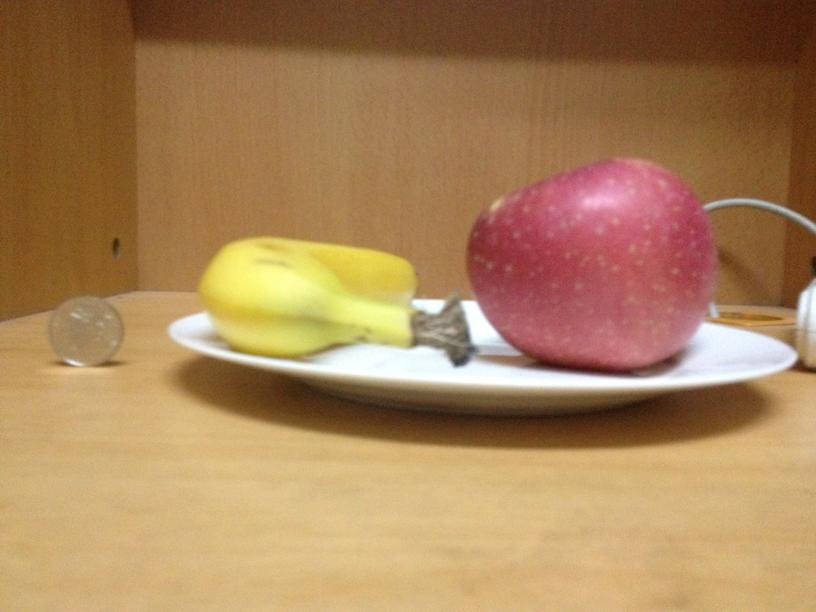apple: (460, 152, 716, 369)
banana: (205, 231, 416, 354)
coin: (45, 296, 123, 366)
